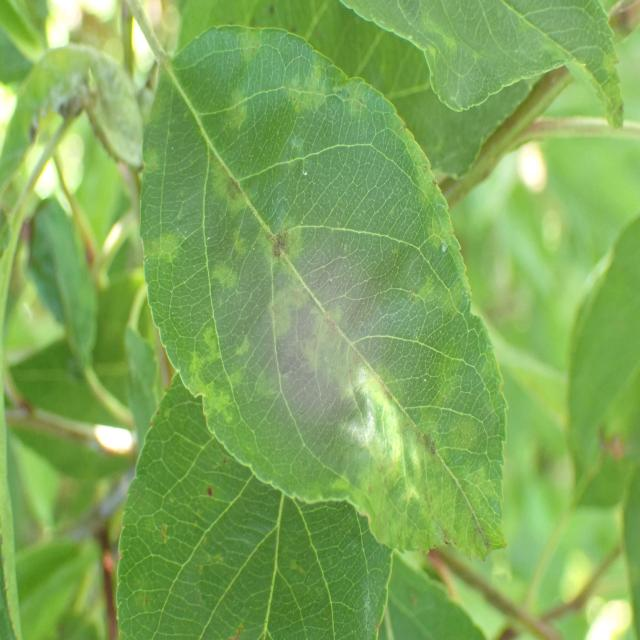scab: (155, 20, 502, 572)
